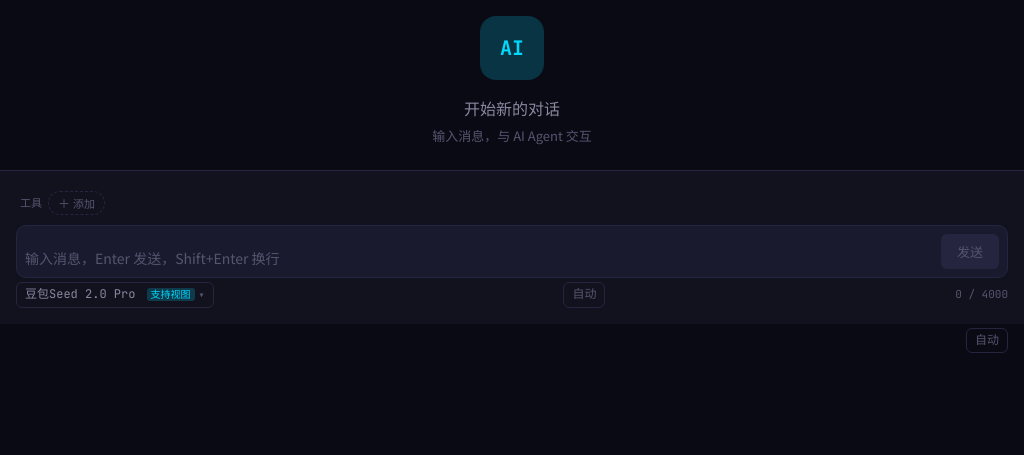
Test: ChatWindow /skill 指令 › 应在 /skill 指令下指定技能并剥离前缀发送，且用户消息保留原始输入（CR-002）
Type "/skill data-query-assistant 帮我查数据" into the text box with class "textarea" at (479, 258), box left=25, top=247, right=933, bottom=269
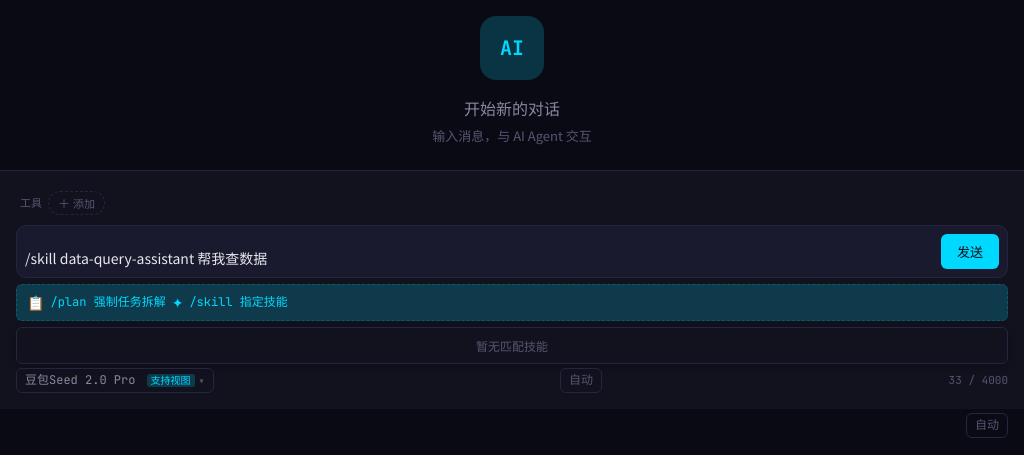
Click the button with class "btn-send" at (970, 252), box left=941, top=234, right=999, bottom=269
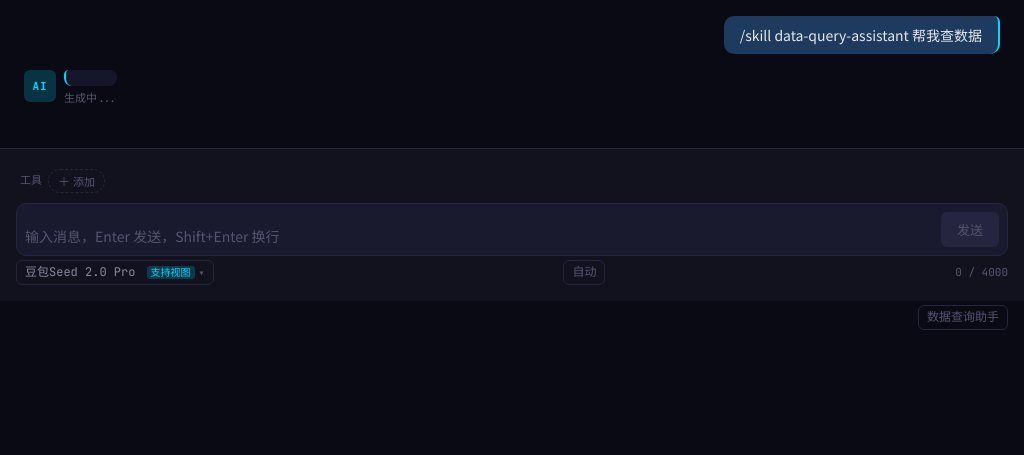
Now the text "/skill data-query-assistant 帮我查数据" is shown, box left=740, top=25, right=982, bottom=45
